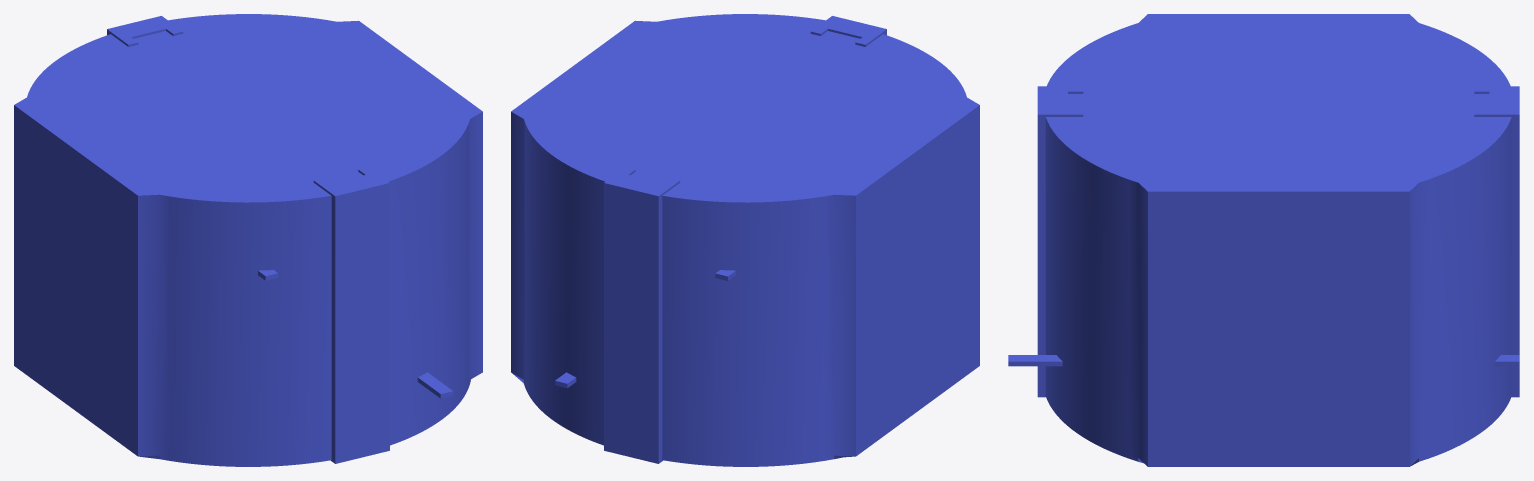
The model's file is BunkerFloor4.fbx.
The picture shows the model from 3 angles, left to right: view 1: azimuth 30°, elevation 25°; view 2: azimuth 150°, elevation 25°; view 3: azimuth 270°, elevation 25°; orthographic projection. The views are drawn at different scales.
Visible parts, largest first — view 1: Bunker.001, Cube, Cube.002; view 2: Bunker.001, Cube; view 3: Bunker.001, Cube, Cube.002.
Boxes of the visible parts, <box> form: Bunker.001: <box>14,14,482,466</box>; Cube: <box>107,16,389,463</box>; Cube.002: <box>258,270,453,398</box>; Bunker.001: <box>511,14,979,466</box>; Cube: <box>604,16,886,463</box>; Bunker.001: <box>1045,14,1511,466</box>; Cube: <box>1037,86,1519,397</box>; Cube.002: <box>1008,355,1519,366</box>.
Bounding box in the file's own units: 34.92 × 25.9 × 42.48.
